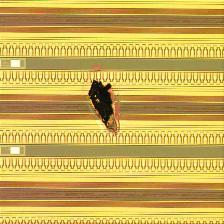PARTICLE: (76, 79, 136, 139)
